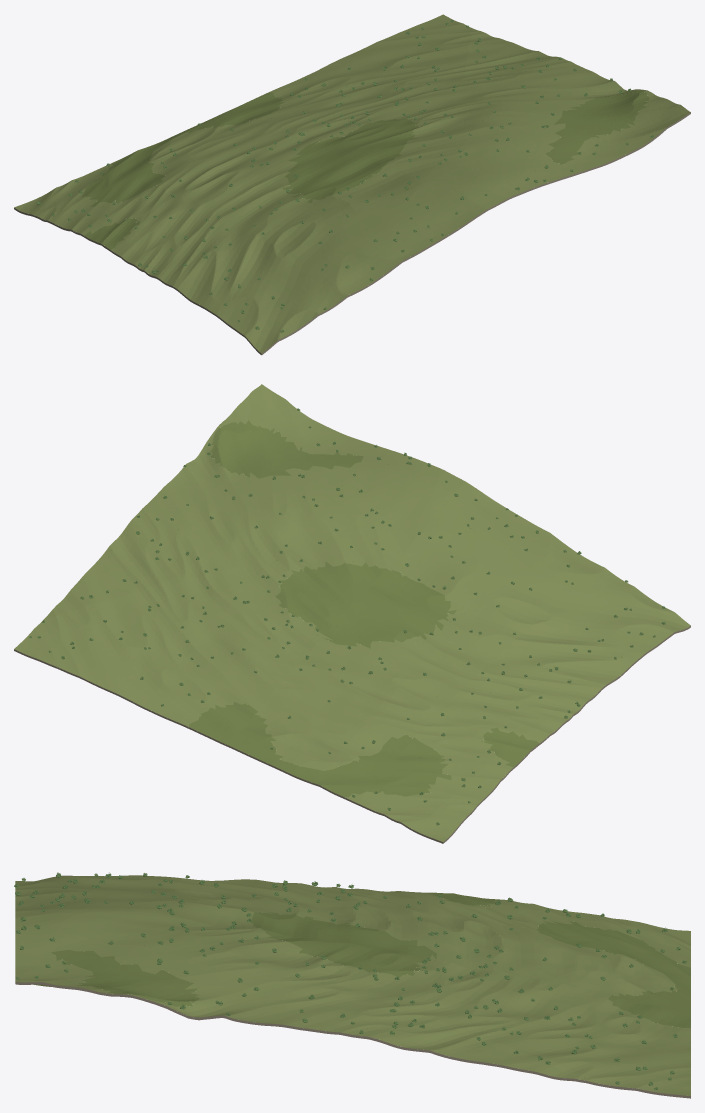
File: parca_+3_-6-yakin.glb
3 views of the same model, one above another, from view 1: azimuth 30°, elevation 25°; view 2: azimuth 150°, elevation 25°; view 3: azimuth 270°, elevation 25° (orthographic). The views are drawn at different scales.
Parts seen in each view (by area): view 1: parca_+3_-6_arazi, parca_+3_-6_bitkiler; view 2: parca_+3_-6_arazi, parca_+3_-6_bitkiler; view 3: parca_+3_-6_arazi, parca_+3_-6_bitkiler.
Part boxes in pixels (bbox=[...]): parca_+3_-6_arazi: bbox=[14, 14, 690, 355]; parca_+3_-6_bitkiler: bbox=[36, 20, 653, 332]; parca_+3_-6_arazi: bbox=[14, 384, 690, 843]; parca_+3_-6_bitkiler: bbox=[29, 408, 665, 825]; parca_+3_-6_arazi: bbox=[15, 875, 690, 1098]; parca_+3_-6_bitkiler: bbox=[14, 872, 686, 1089].
Size of the model in its own units: 1001 by 387 by 1002.
